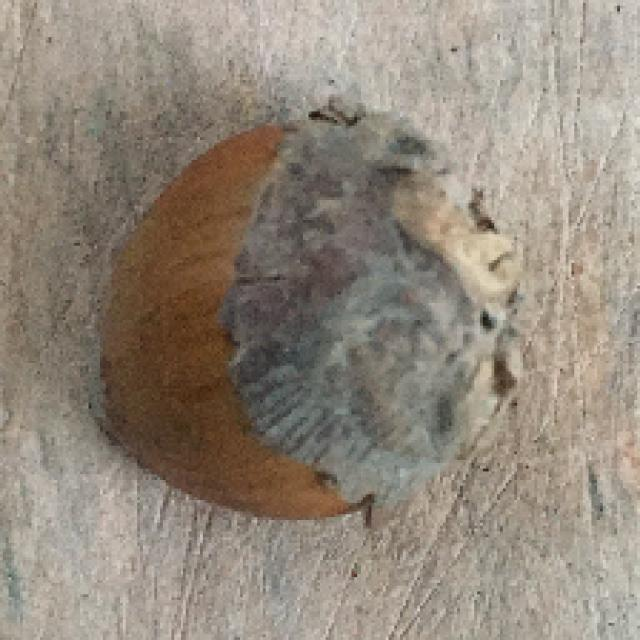damagedHazelnut: (84, 106, 518, 533)
